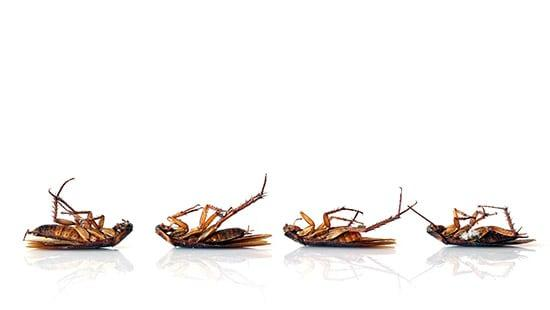cockroach: (154, 200, 274, 250), (283, 202, 398, 250), (21, 208, 135, 252), (426, 204, 537, 247)
